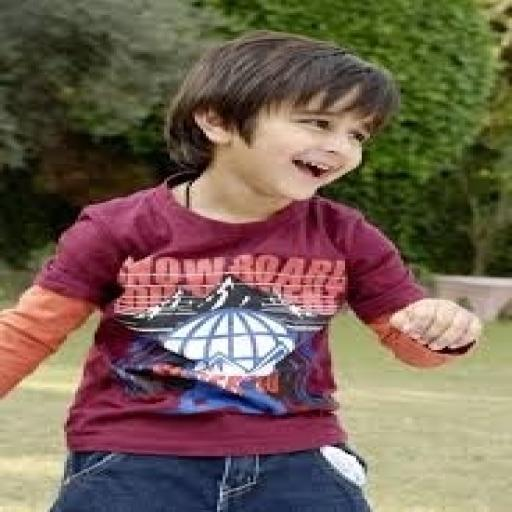laughing: (0, 26, 487, 510)
